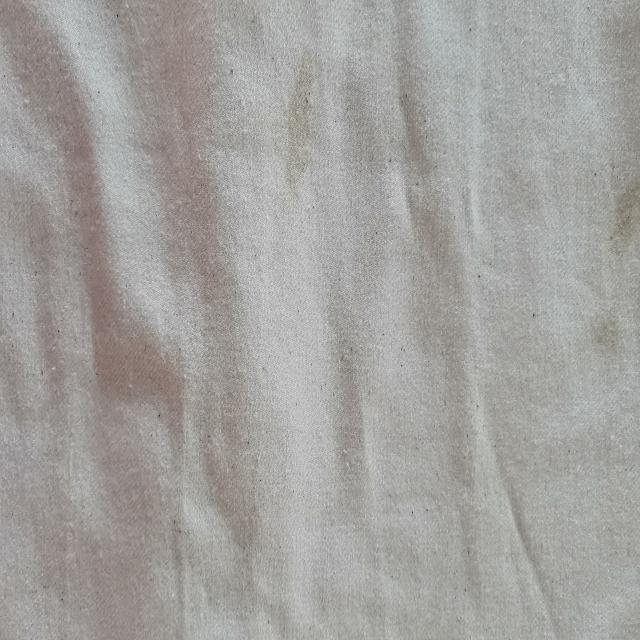taaaches: (278, 39, 330, 200), (588, 292, 630, 383), (605, 171, 638, 263)
